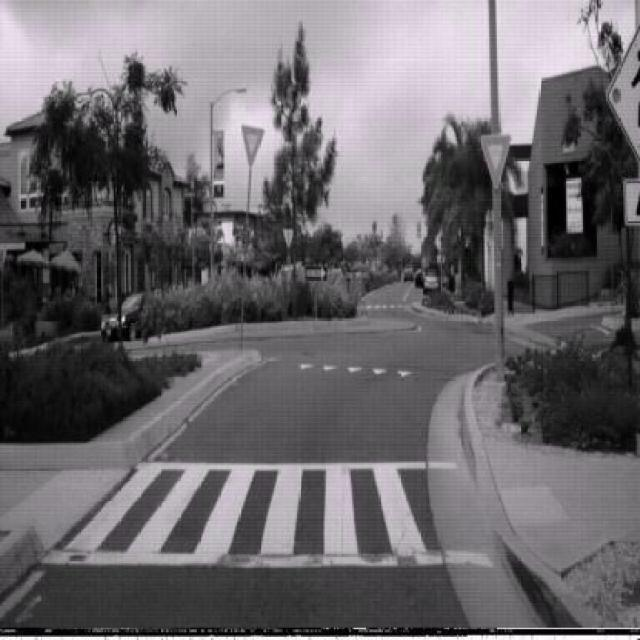pedestrianCrossing: (432, 227, 448, 256)
yield: (478, 132, 512, 190), (240, 123, 265, 166)
